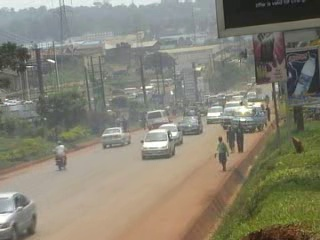Car: (0, 190, 42, 239), (138, 127, 177, 160), (99, 125, 133, 150), (157, 121, 182, 147), (175, 113, 203, 136), (204, 104, 225, 126), (181, 104, 201, 118)
Motorcycle: (50, 138, 70, 174)
